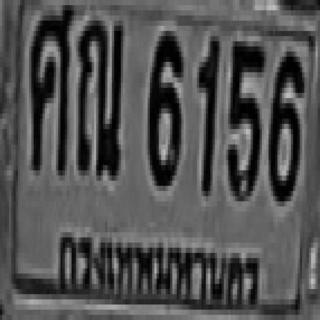A19: (76, 16, 121, 176)
A38: (29, 0, 72, 170)
N01: (197, 34, 217, 188)
N05: (226, 36, 262, 196)
N06: (145, 26, 181, 181), (266, 46, 302, 196)
P04: (54, 221, 268, 317)
